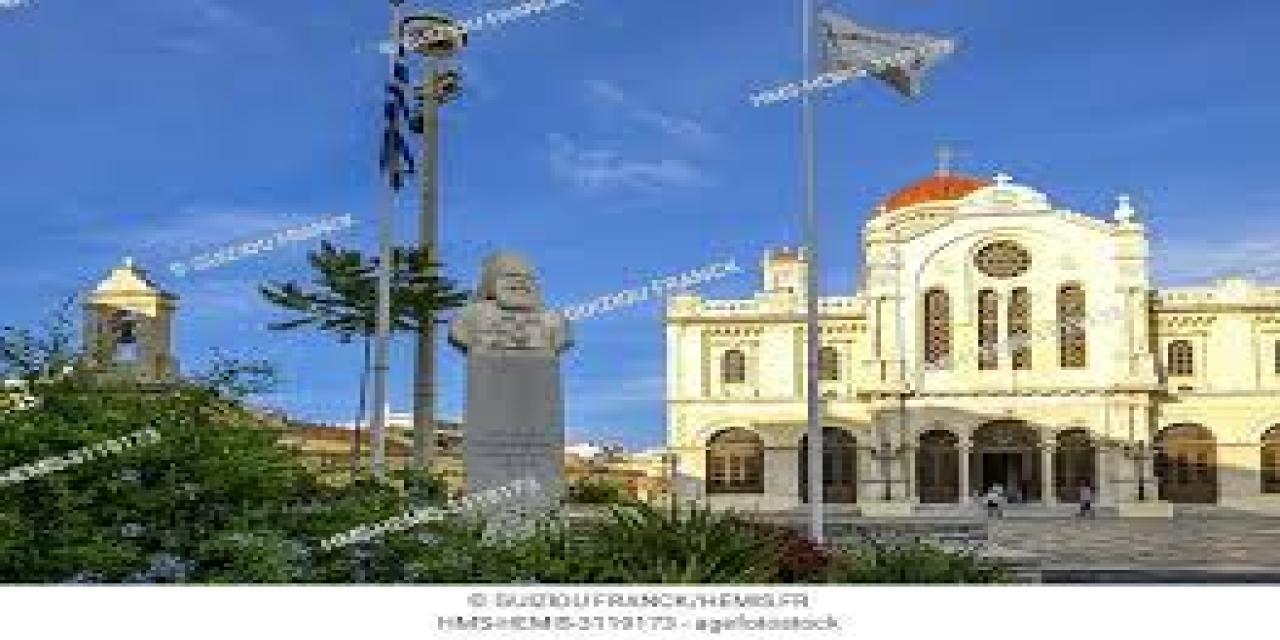Agios Minas: (658, 154, 1280, 525)
